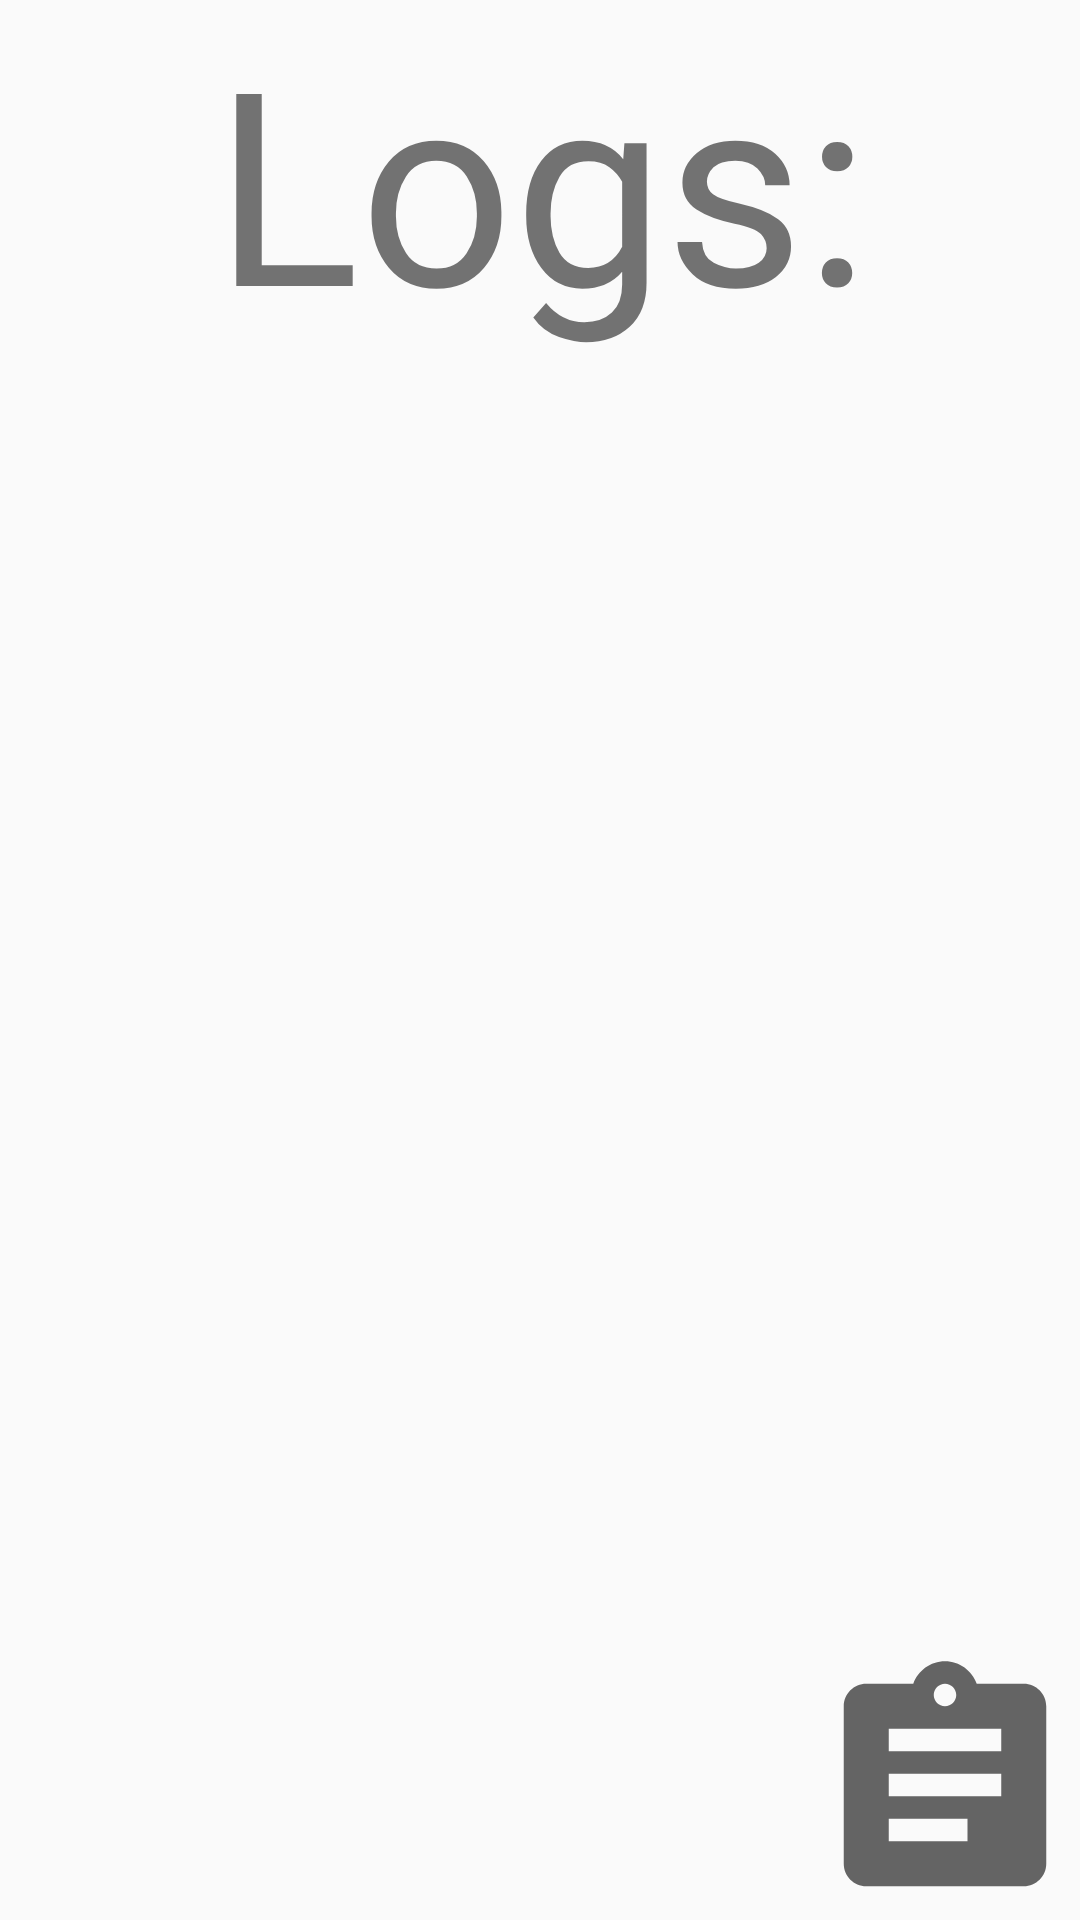

Where icons sit on this 1080 × 1920 app screen, as (x1, y1, x2, y2):
inspect: (843, 1661, 1047, 1887)
